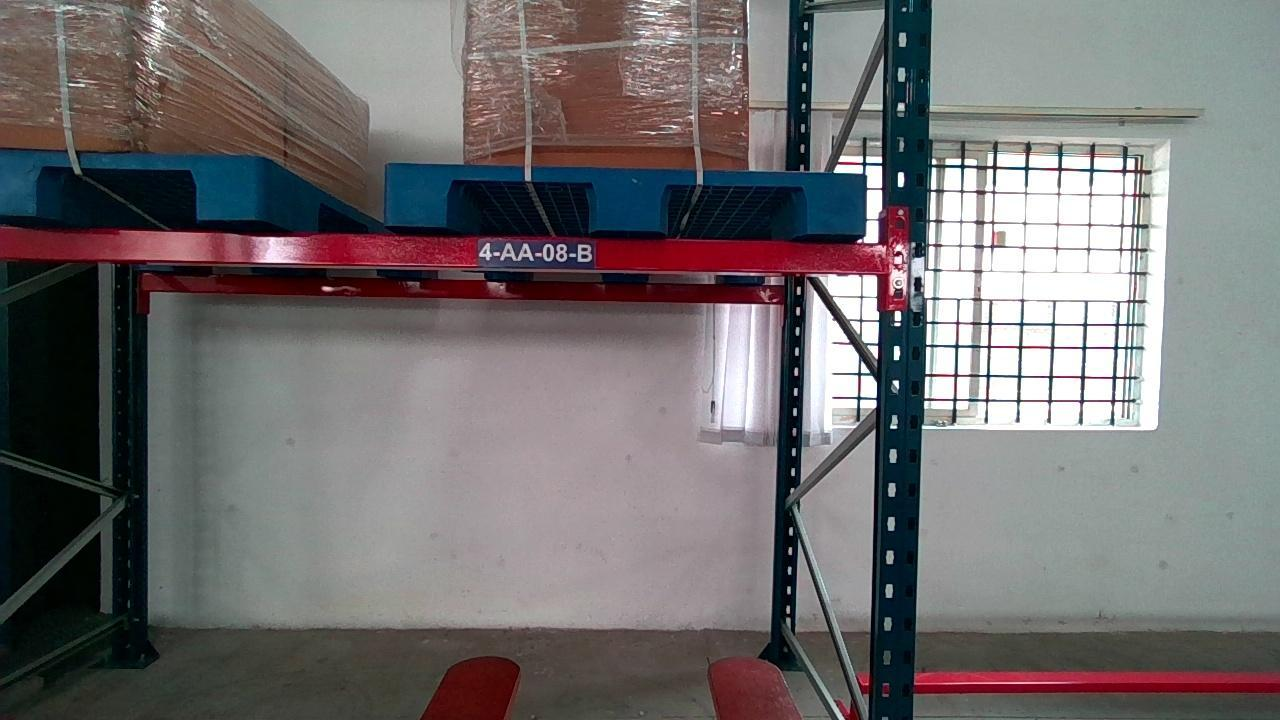h_rack: (3, 226, 885, 271)
small_pallet: (384, 166, 868, 233), (3, 150, 265, 218)
